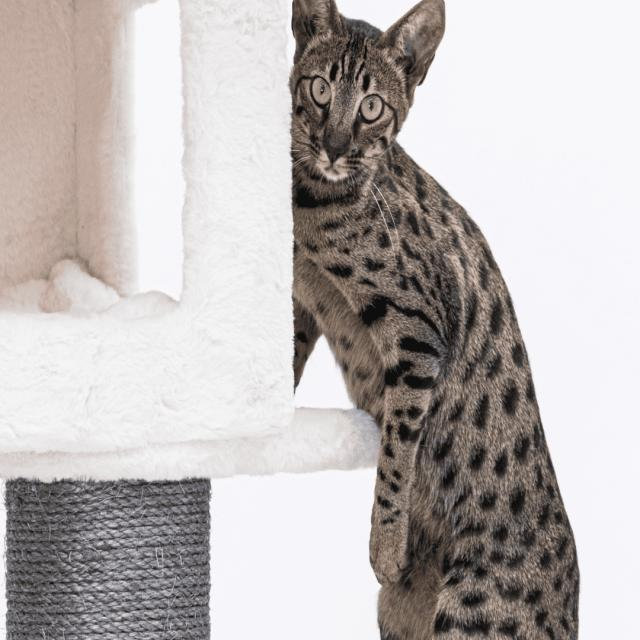Savannah: (288, 0, 585, 640)
